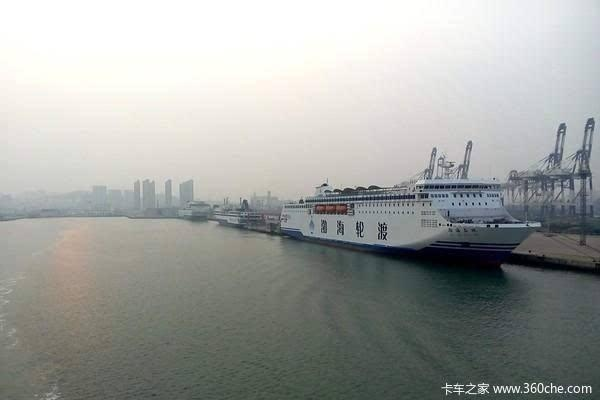youlun: (273, 149, 545, 259)
